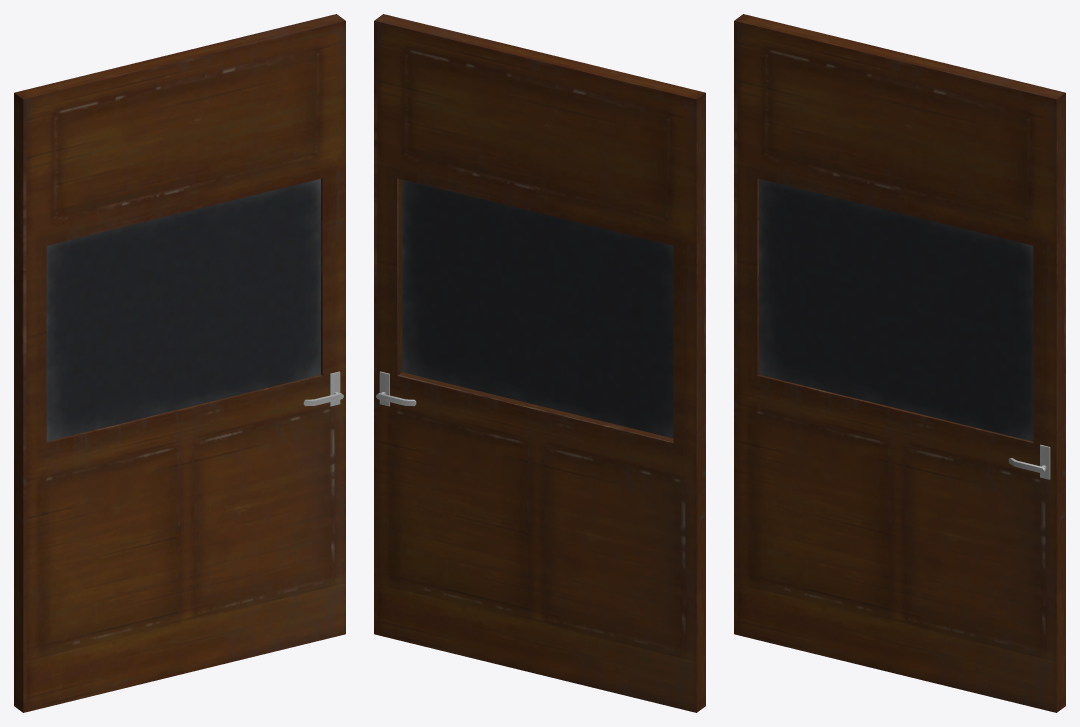
File: TrainDoor.fbx
The picture shows the model from 3 angles, left to right: view 1: azimuth 30°, elevation 25°; view 2: azimuth 150°, elevation 25°; view 3: azimuth 330°, elevation 25°; orthographic projection.
Visible parts, largest first — view 1: SM_a_006_Locomotive_02c; view 2: SM_a_006_Locomotive_02c; view 3: SM_a_006_Locomotive_02c.
Part boxes in pixels (x1=…): SM_a_006_Locomotive_02c: x1=14, y1=14, x2=345, y2=712; SM_a_006_Locomotive_02c: x1=374, y1=14, x2=705, y2=712; SM_a_006_Locomotive_02c: x1=734, y1=14, x2=1065, y2=712.
Size of the model in its own units: 110 by 200 by 11.86.
2 materials, 2 textured.
